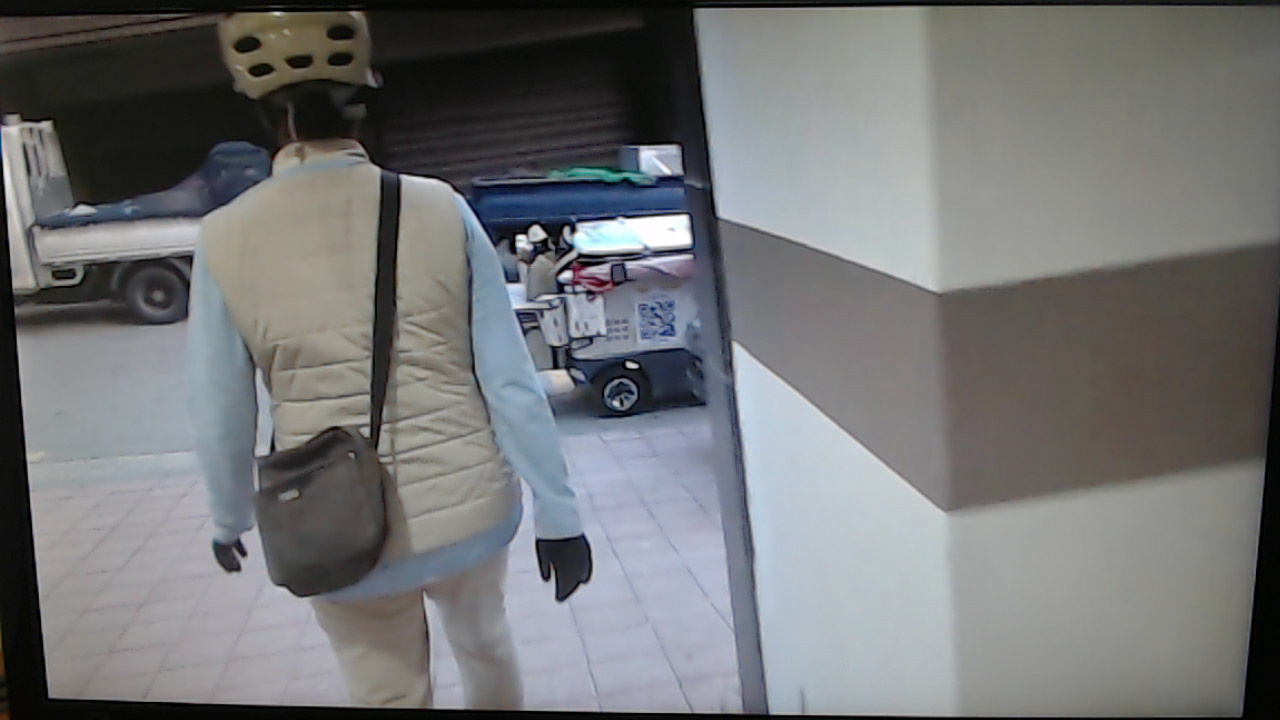Yakurut: (160, 14, 613, 707)
